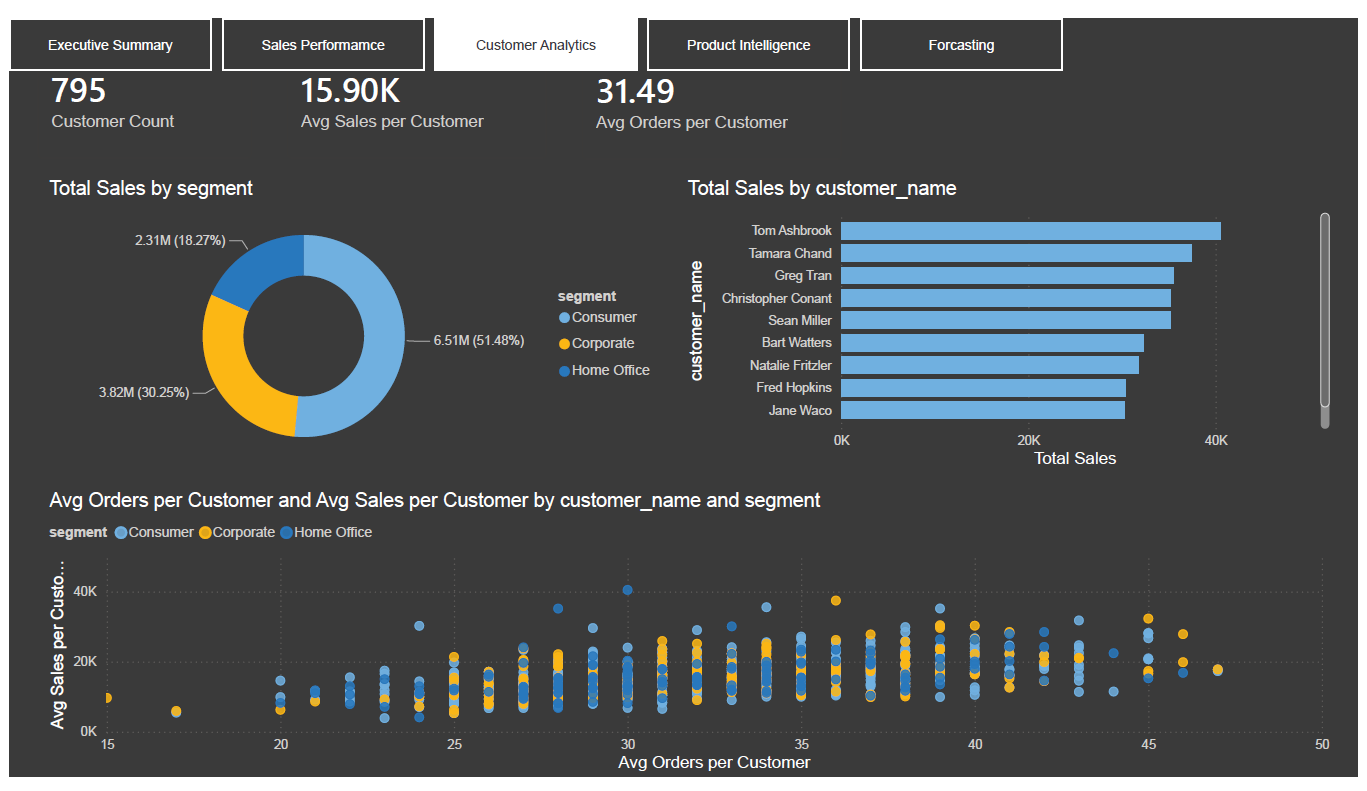

Layout of this report page (visuals, bound fields, positions):
{"tool":"powerbi","page":{"name":"Customer Analytics","canvas":[1280,720],"ordinal":2},"visuals":[{"type":"clusteredBarChart","fields":{"Category":["Dim_Customer.customer_name"],"Y":["_Measures.Total Sales"]},"box":[639.5,150.9,618.9,279.9],"z":0},{"type":"donutChart","fields":{"Category":["Dim_Customer.segment"],"Y":["_Measures.Total Sales"]},"box":[32.9,150.9,588.7,279.9],"z":1000},{"type":"scatterChart","fields":{"X":["_Measures.Avg Orders per Customer"],"Y":["_Measures.Avg Sales per Customer"],"Category":["Dim_Customer.customer_name"],"Series":["Dim_Customer.segment"]},"box":[32.9,447.3,1225.4,273.1],"z":2000},{"type":"cardVisual","fields":{"Data":["_Measures.Customer Count"]},"box":[9.6,0,237.4,149.6],"z":3000},{"type":"cardVisual","fields":{"Data":["_Measures.Avg Sales per Customer"]},"box":[247,0,279.9,149.6],"z":4000},{"type":"cardVisual","fields":{"Data":["_Measures.Avg Orders per Customer"]},"box":[526.9,1.4,279.9,149.6],"z":5000},{"type":"pageNavigator","box":[0,0,1000,50],"z":6000}]}

Visuals, with their boxes in screenshot pixels (x1, y1, x2, y2), scaled from the page's 1280x720 canvas onto the 1367x791 screenshot:
clusteredBarChart - Dim_Customer.customer_name x _Measures.Total Sales: <bbox>683, 166, 1344, 473</bbox>
donutChart - Dim_Customer.segment x _Measures.Total Sales: <bbox>35, 166, 664, 473</bbox>
scatterChart - _Measures.Avg Orders per Customer x _Measures.Avg Sales per Customer: <bbox>35, 491, 1344, 790</bbox>
cardVisual - _Measures.Customer Count: <bbox>10, 0, 264, 164</bbox>
cardVisual - _Measures.Avg Sales per Customer: <bbox>264, 0, 563, 164</bbox>
cardVisual - _Measures.Avg Orders per Customer: <bbox>563, 2, 862, 166</bbox>
pageNavigator: <bbox>0, 0, 1068, 55</bbox>
